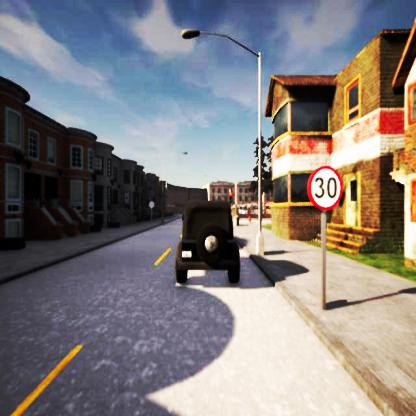vehicle: (176, 200, 241, 284)
